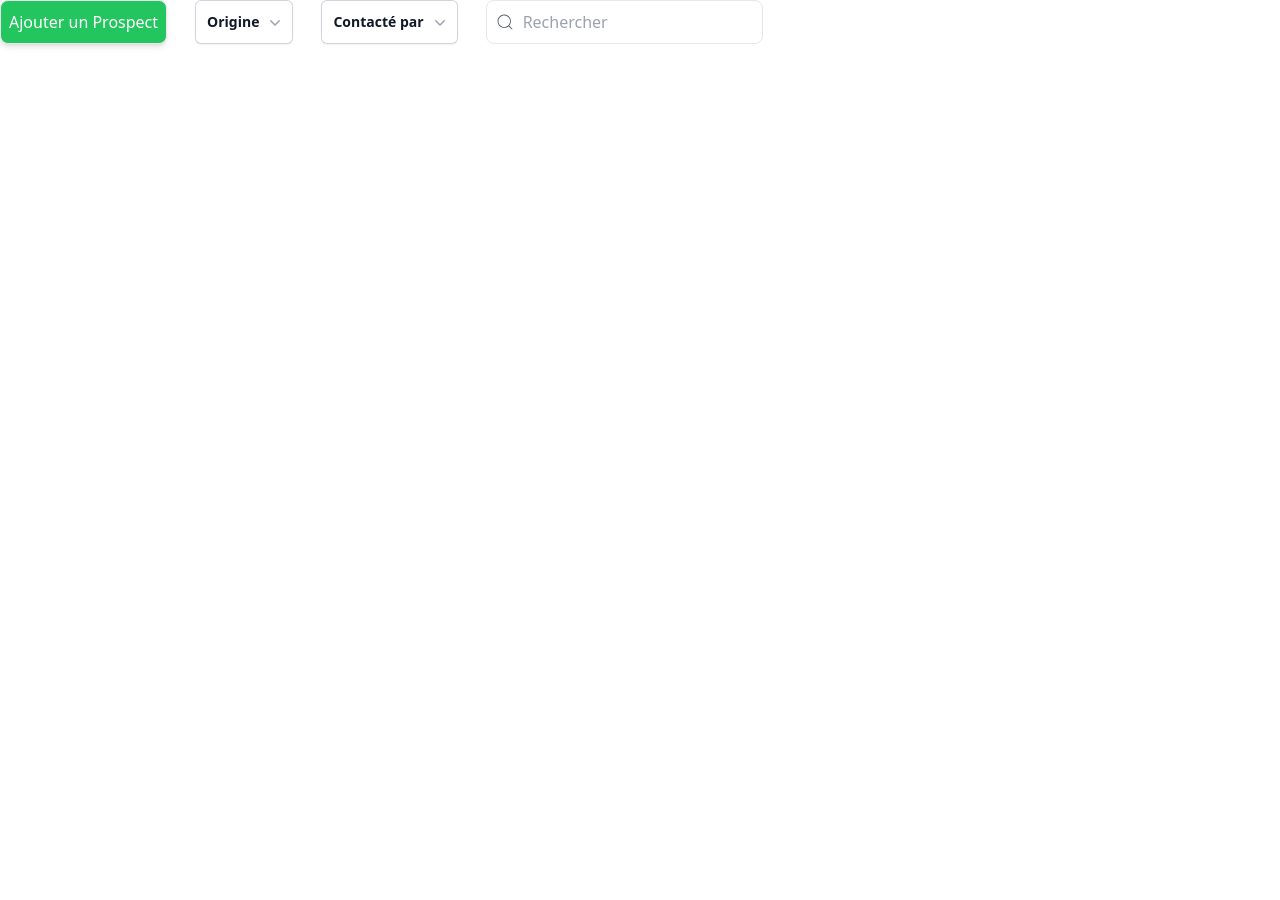
it: Modal component › doit s'afficher si isOpen est à true
The image size is (1280, 900).
Step 1. Click the button "Ajouter un Prospect" → (84, 22), box x1=0 y1=0 x2=167 y2=44
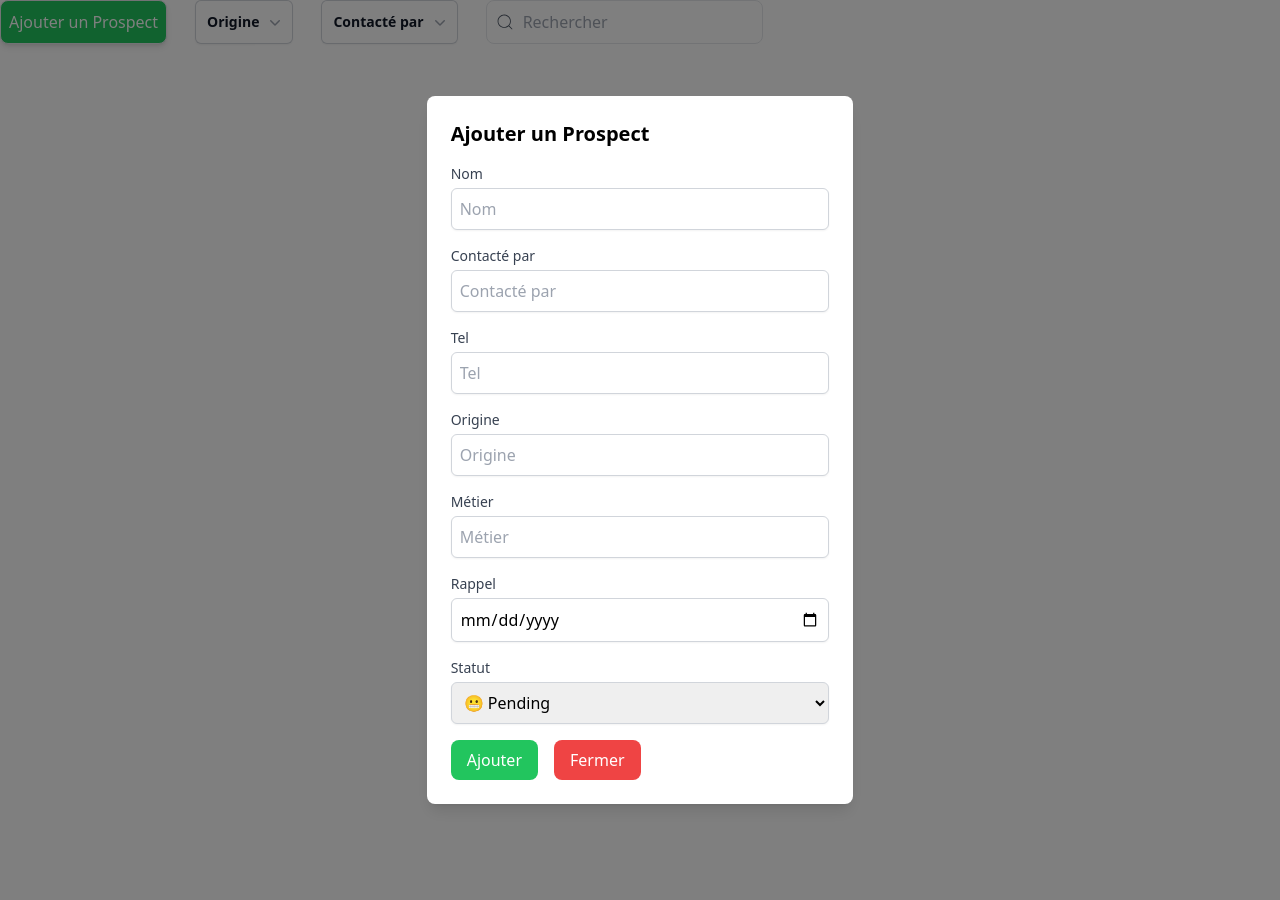
Check: the dialog is shown
